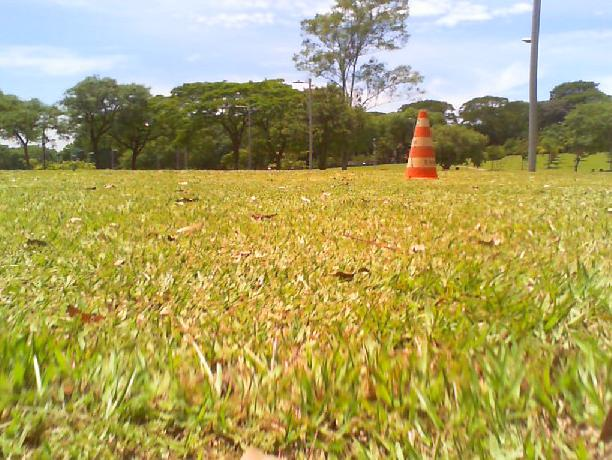0 cone: (401, 110, 440, 179)
